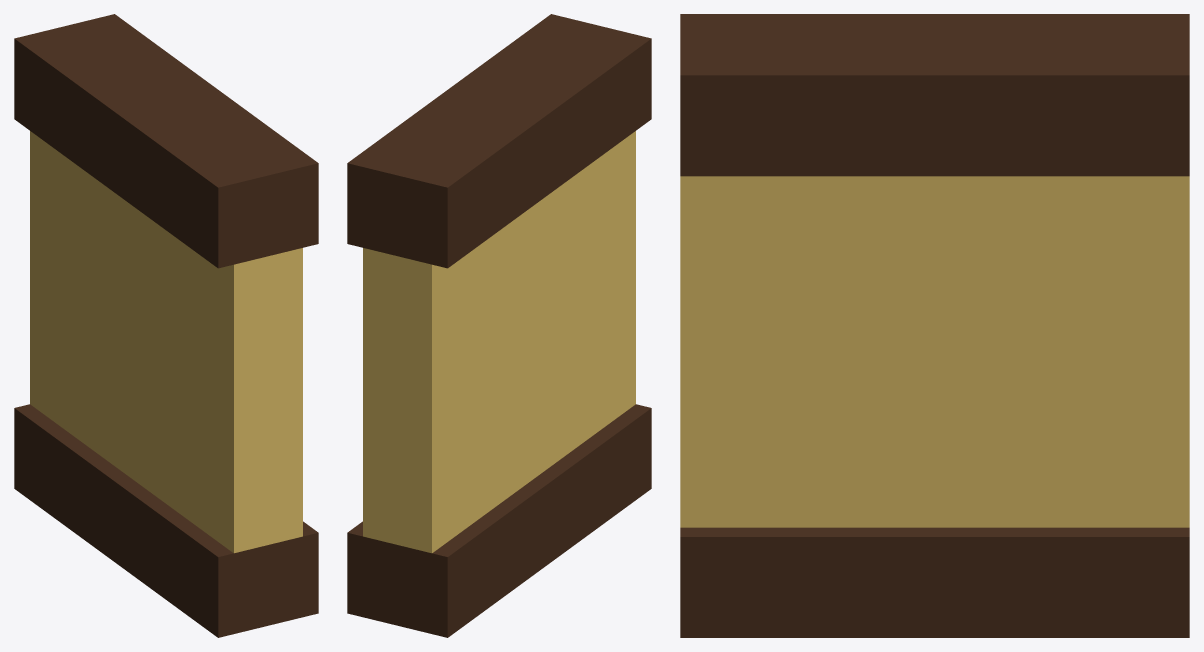
The model's file is Wall_Simple.fbx.
3 renders of one model, left to right at view 1: azimuth 30°, elevation 25°; view 2: azimuth 150°, elevation 25°; view 3: azimuth 270°, elevation 25°, orthographic. The views are drawn at different scales.
Visible parts, largest first — view 1: Wall Simple; view 2: Wall Simple; view 3: Wall Simple.
Part boxes in pixels (box(x1,y1,x2,y2)): Wall Simple: box(14, 14, 318, 637); Wall Simple: box(347, 14, 651, 637); Wall Simple: box(680, 14, 1189, 637).
Size of the model in its own units: 56.9 by 244 by 200.
